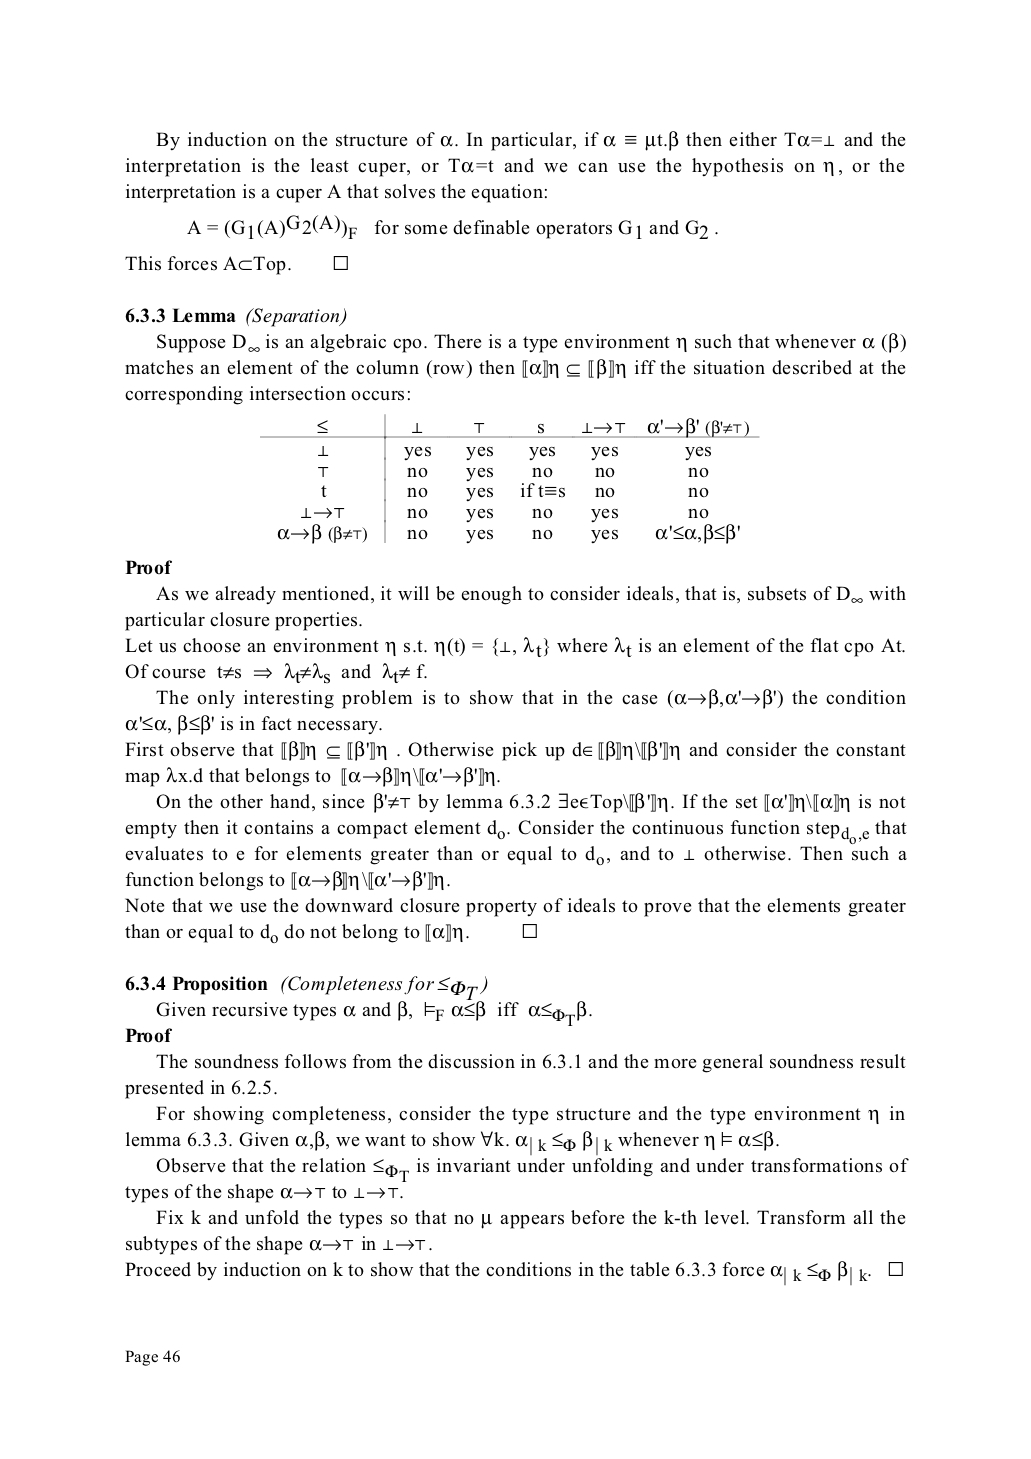Table: (260, 413, 759, 544)
formula: (187, 214, 717, 239)
